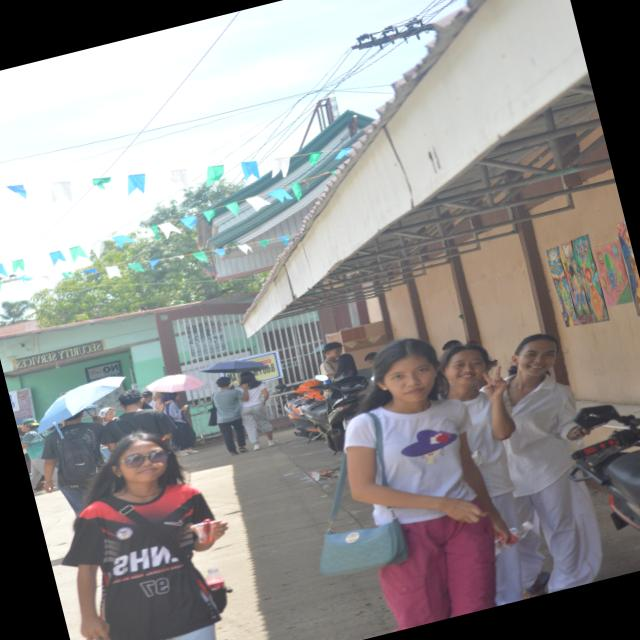person: (344, 339, 507, 629), (62, 433, 226, 639), (503, 334, 601, 595), (439, 345, 517, 528), (41, 411, 103, 514), (100, 389, 174, 450), (239, 372, 275, 450), (212, 376, 246, 455), (160, 393, 196, 455), (20, 418, 44, 488), (319, 342, 342, 379), (332, 354, 357, 381), (363, 352, 375, 367)
